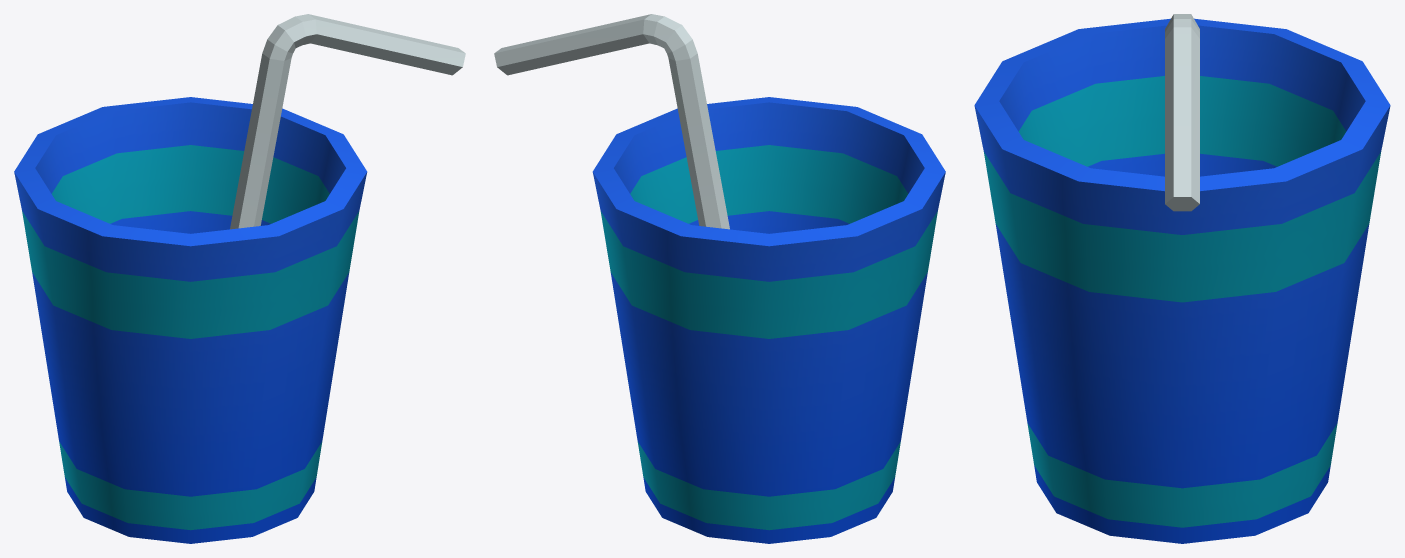
File: vaso_papel_001.fbx
The picture shows the model from 3 angles, left to right: view 1: azimuth 30°, elevation 25°; view 2: azimuth 150°, elevation 25°; view 3: azimuth 270°, elevation 25°; orthographic projection. The views are drawn at different scales.
Visible parts, largest first — view 1: vaso_papel.001; view 2: vaso_papel.001; view 3: vaso_papel.001.
Boxes of the visible parts, x1,y1,x2,y2 form: vaso_papel.001: (14, 14, 465, 543); vaso_papel.001: (494, 14, 945, 543); vaso_papel.001: (974, 14, 1390, 543).
Bounding box in the file's own units: 62.96 × 63.25 × 45.38.
